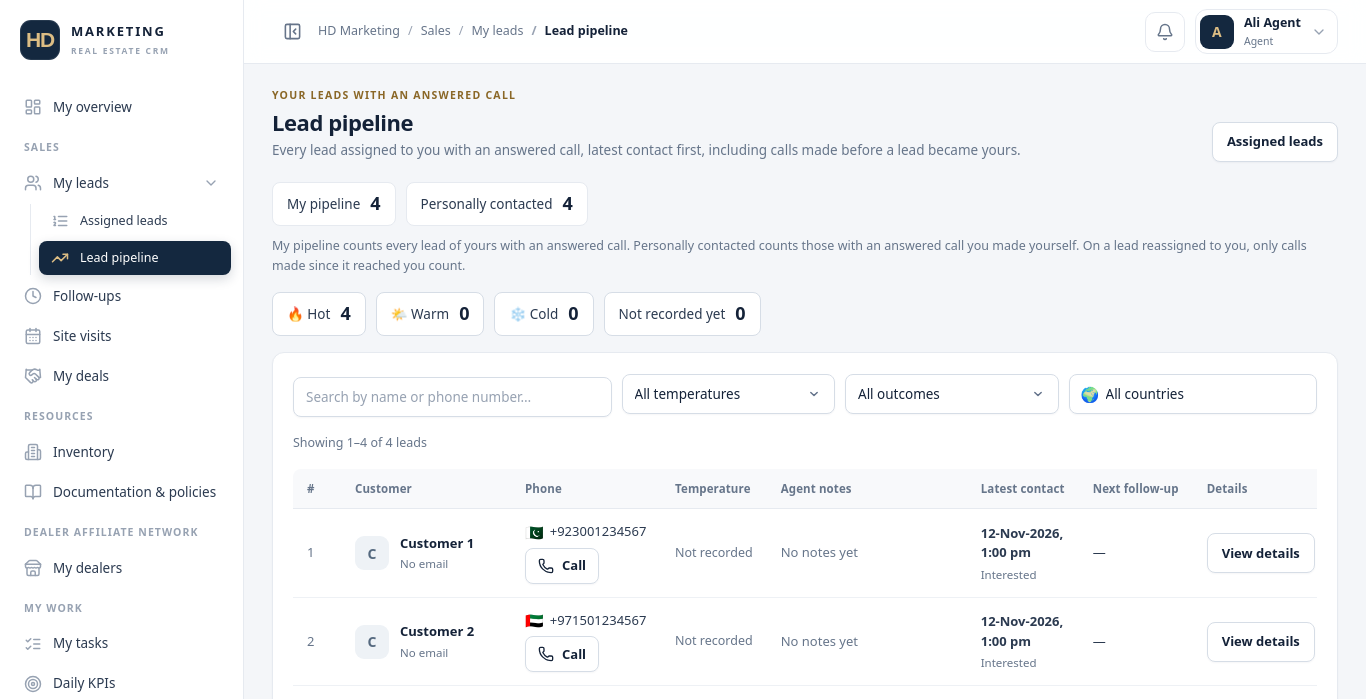
Test case: the Country filter › an agent's Lead pipeline
expect the text "Customer 1" is shown: met, box [400,534,474,552]
Type "united s" into the dropdown named "Filter by country" at coordinates (1193, 394), box [1068,374,1317,414]
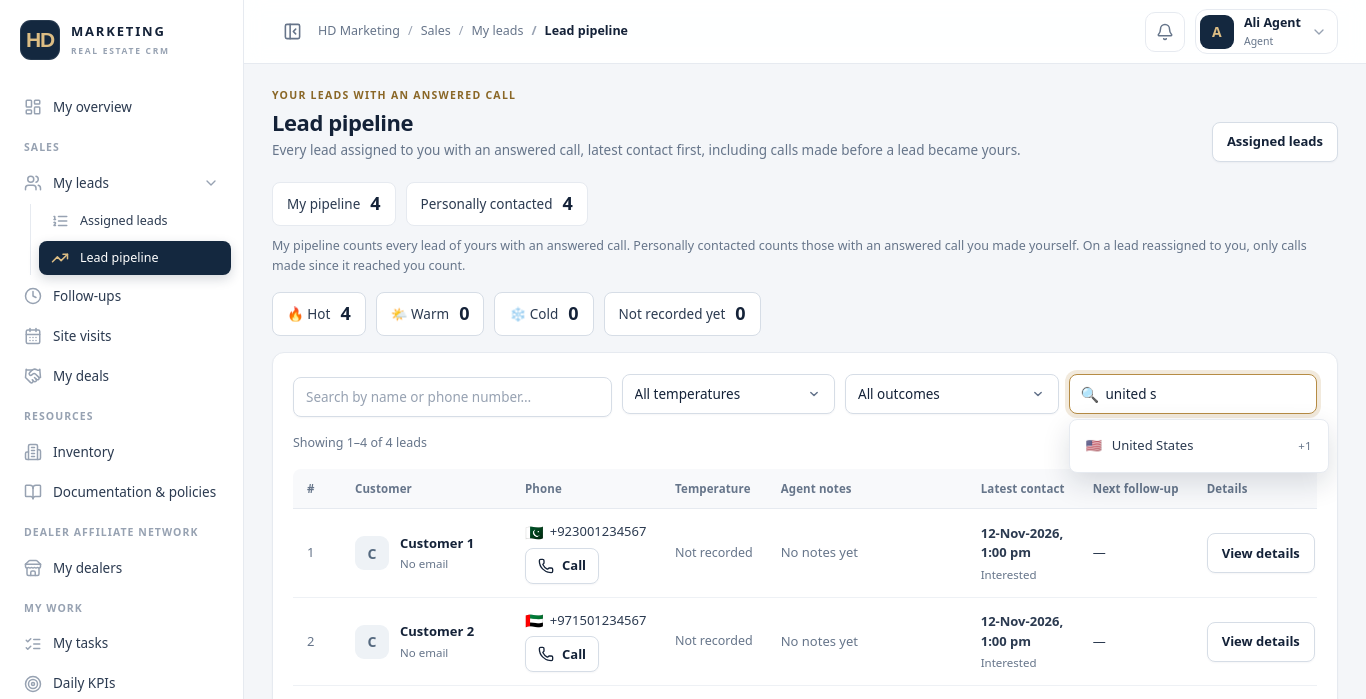
Click the option "🇺🇸 United States +1" at coordinates (1198, 446), box [1076,426,1322,466]
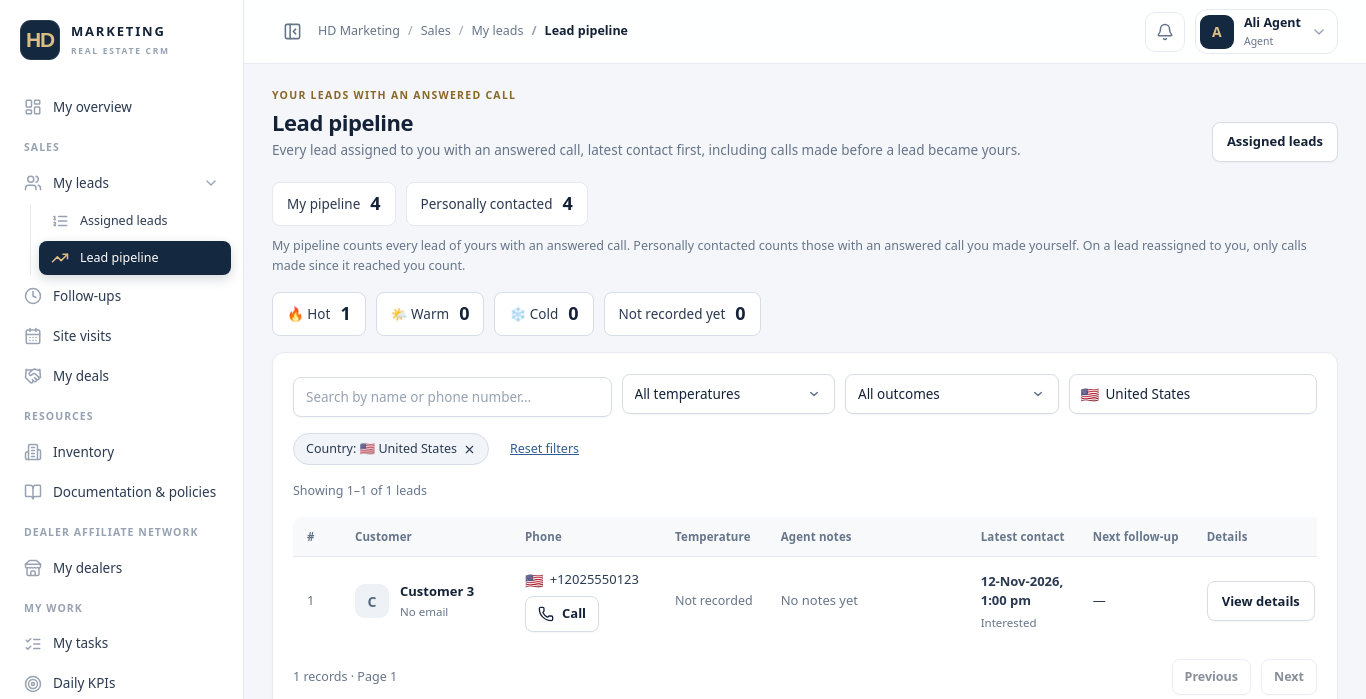
expect the text "Customer 3" is shown: met, box [400,582,474,600]
expect the link "Customer 1" is gone: met
expect the button with aria-label "Remove filter Country: 🇺🇸 United States" is shown: met, box [293,433,489,465]
